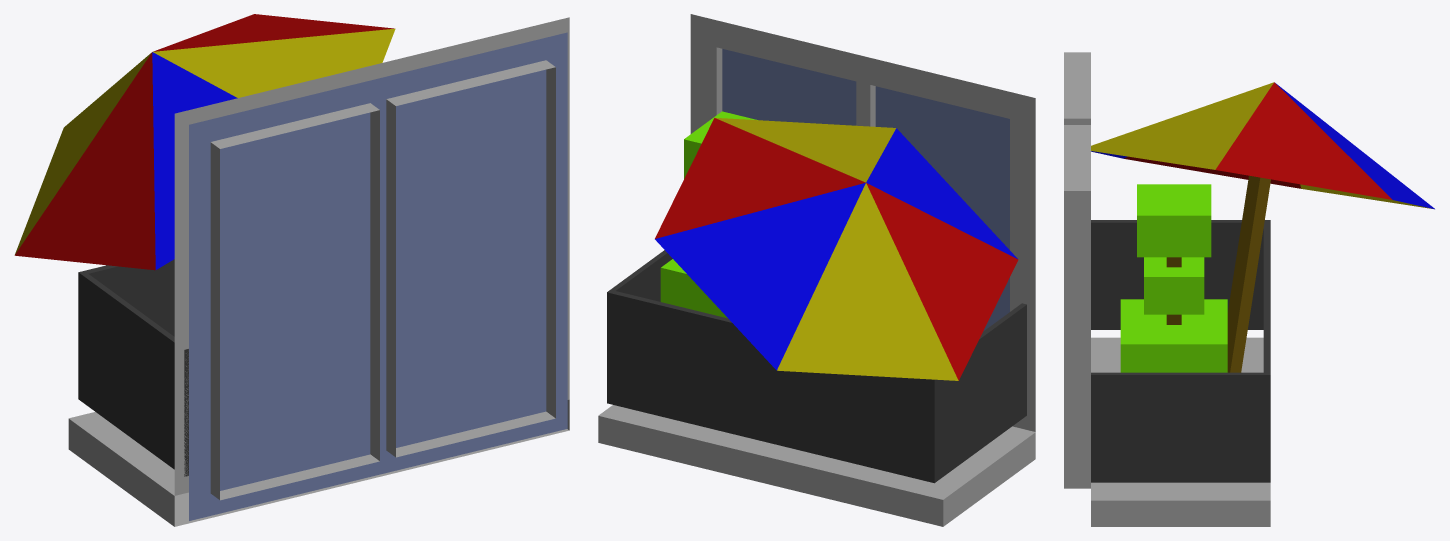
The model's file is BalconyUmberellaPlant-Basic.fbx.
3 renders of one model, left to right at view 1: azimuth 30°, elevation 25°; view 2: azimuth 150°, elevation 25°; view 3: azimuth 270°, elevation 25°, orthographic. The views are drawn at different scales.
Parts seen in each view (by area): view 1: BalconyUmberellaPlant; view 2: BalconyUmberellaPlant; view 3: BalconyUmberellaPlant.
Part boxes in pixels (x1,y1,x2,y2): BalconyUmberellaPlant: [14, 14, 569, 526]; BalconyUmberellaPlant: [598, 14, 1035, 526]; BalconyUmberellaPlant: [1064, 52, 1434, 526].
Size of the model in its own units: 1.09 by 1 by 0.9632.
